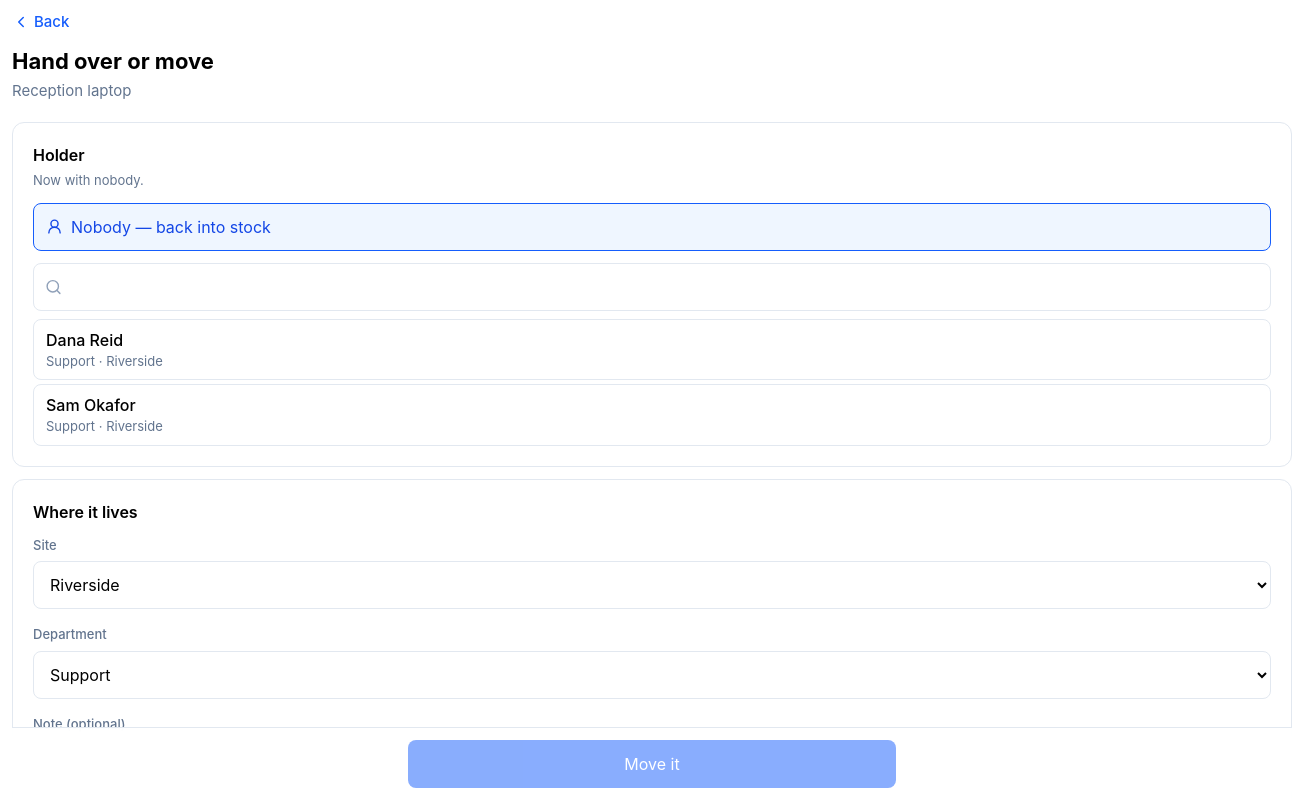
it: FieldAssignPage › says so when nobody matches rather than showing an empty list
The width and height of the screenshot is (1292, 800).
Check: the button "Dana Reid Support · Riverside" is shown, box 33,318 -> 1271,380
Type "zzz" into the field named "Search people".
click(652, 286); type("zzz")  # box 33,262 -> 1271,310
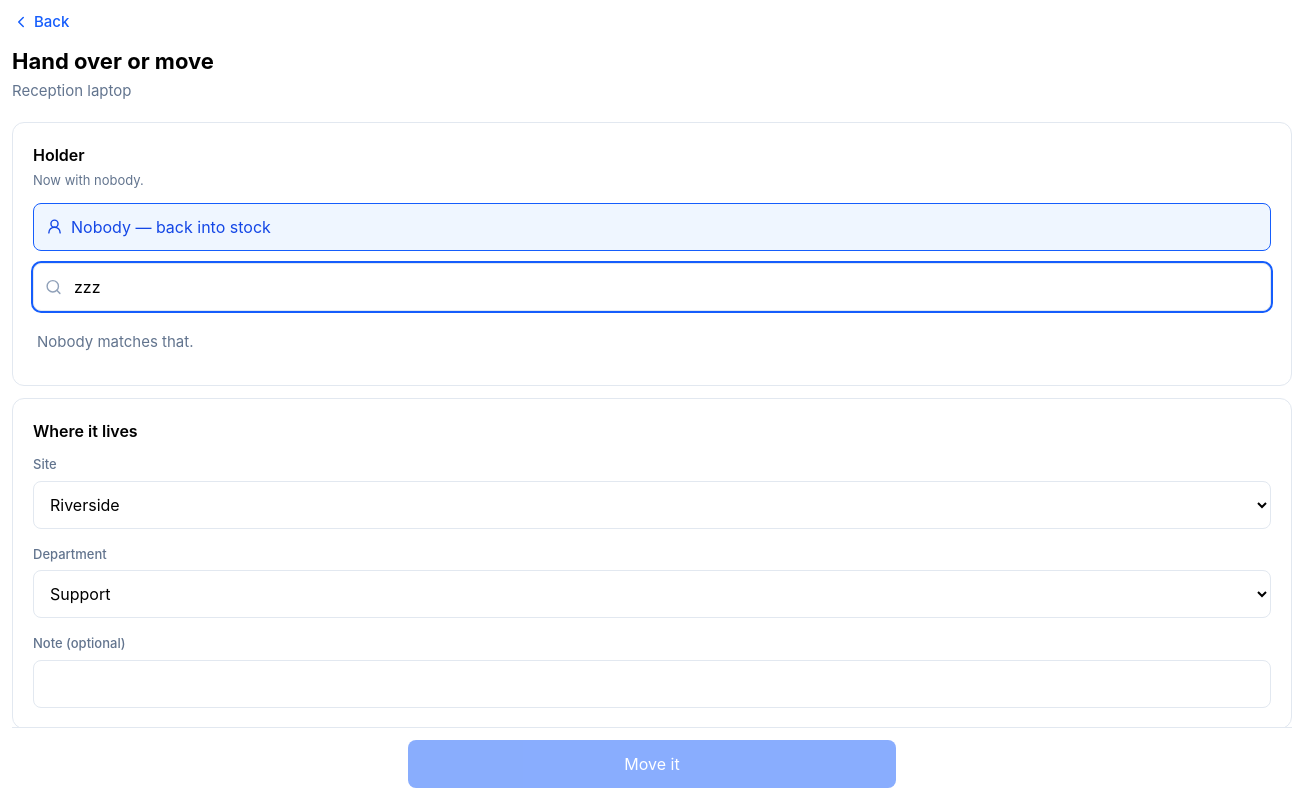
Check: the list item "Nobody matches that." is shown, box 37,332 -> 194,350
